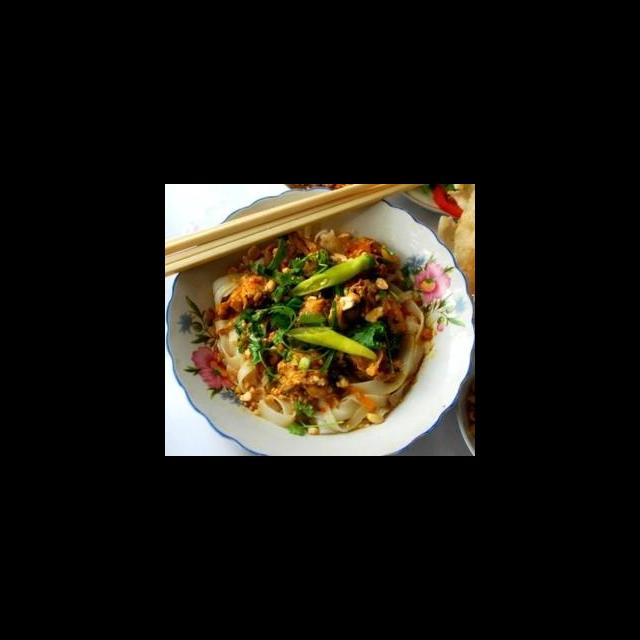mi: (254, 374, 408, 435), (205, 271, 268, 394), (384, 282, 430, 384)
